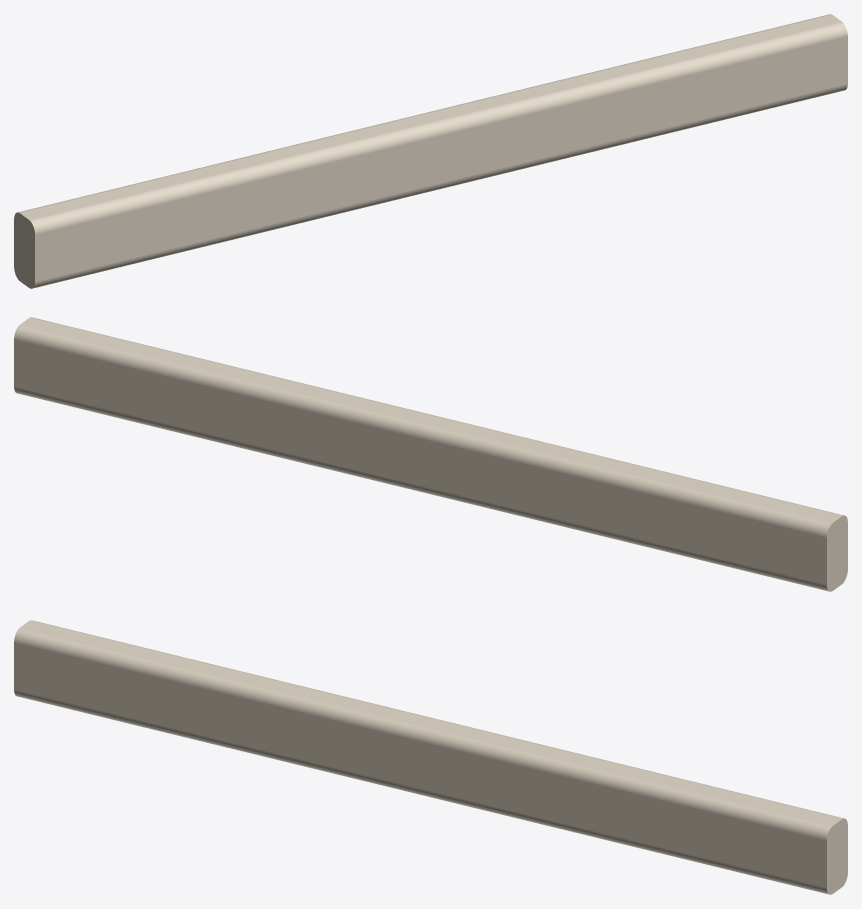
The model's file is FloorBand.glb.
The picture shows the model from 3 angles, top to bottom: view 1: azimuth 30°, elevation 25°; view 2: azimuth 150°, elevation 25°; view 3: azimuth 330°, elevation 25°; orthographic projection.
Visible parts, largest first — view 1: PBK_FloorBand.004; view 2: PBK_FloorBand.004; view 3: PBK_FloorBand.004.
Boxes of the visible parts, <box> form: PBK_FloorBand.004: <box>14,14,847,288</box>; PBK_FloorBand.004: <box>14,317,847,591</box>; PBK_FloorBand.004: <box>14,620,847,894</box>.
Bounding box in the file's own units: 2 × 0.16 × 0.09.
